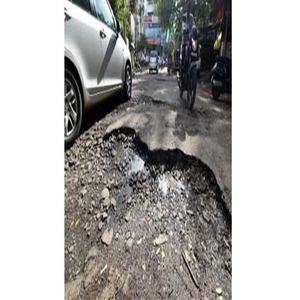pothole: (93, 128, 230, 300)
